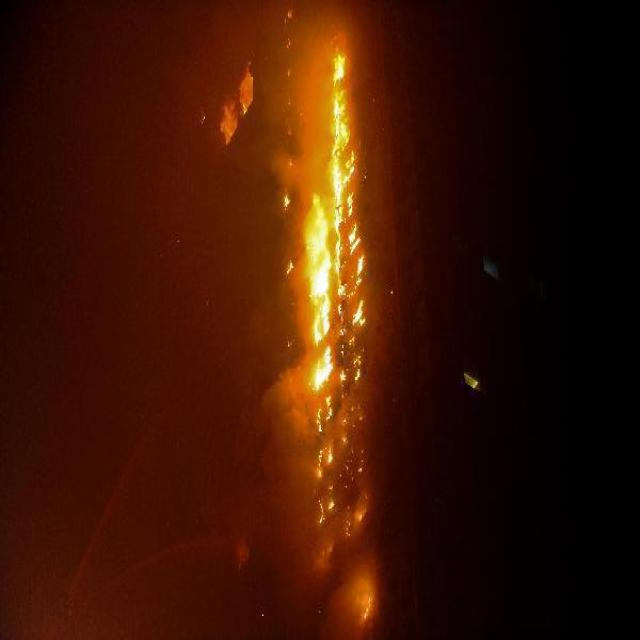fire: (279, 23, 380, 531), (211, 64, 269, 145)
